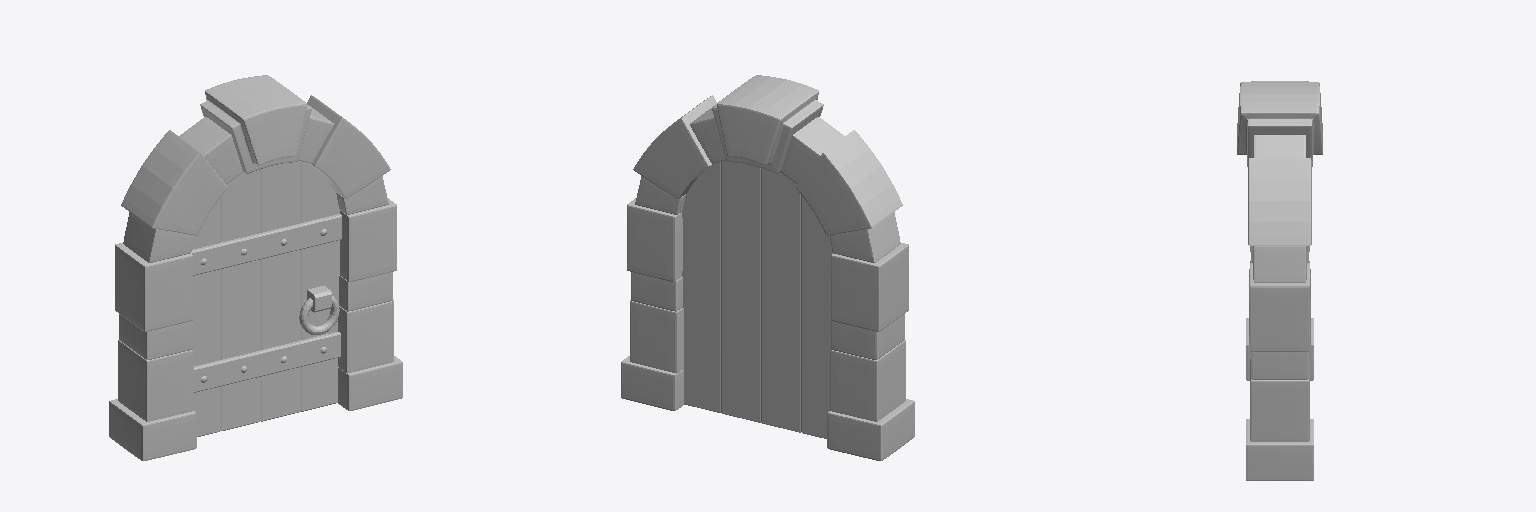
File: Door_Low.obj
3 renders of one model, left to right at view 1: azimuth 30°, elevation 25°; view 2: azimuth 150°, elevation 25°; view 3: azimuth 270°, elevation 25°, orthographic.
Parts seen in each view (by area): view 1: Door_Low_Circle.003; view 2: Door_Low_Circle.003; view 3: Door_Low_Circle.003.
Boxes of the visible parts, x1,y1,x2,y2 form: Door_Low_Circle.003: [109, 75, 402, 460]; Door_Low_Circle.003: [621, 75, 914, 460]; Door_Low_Circle.003: [1237, 81, 1322, 480].
Size of the model in its own units: 2.13 by 2.52 by 0.6101.